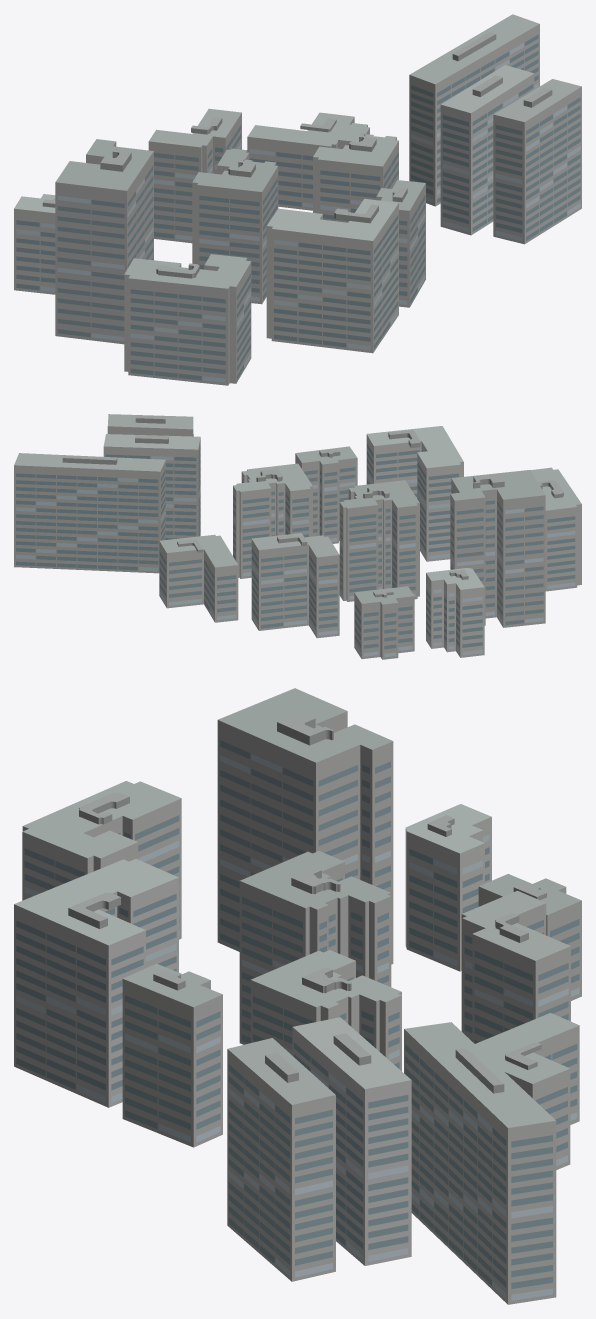
The model's file is apt-a13123002.glb.
3 views of the same model, one above another, from view 1: azimuth 30°, elevation 25°; view 2: azimuth 150°, elevation 25°; view 3: azimuth 270°, elevation 25° (orthographic). The views are drawn at different scales.
Parts seen in each view (by area): view 1: apt-a13123002; view 2: apt-a13123002; view 3: apt-a13123002.
Boxes of the visible parts, x1,y1,x2,y2 form: apt-a13123002: [14, 14, 581, 385]; apt-a13123002: [14, 414, 581, 659]; apt-a13123002: [14, 688, 581, 1304].
Bounding box in the file's own units: 219 × 60 × 133.
